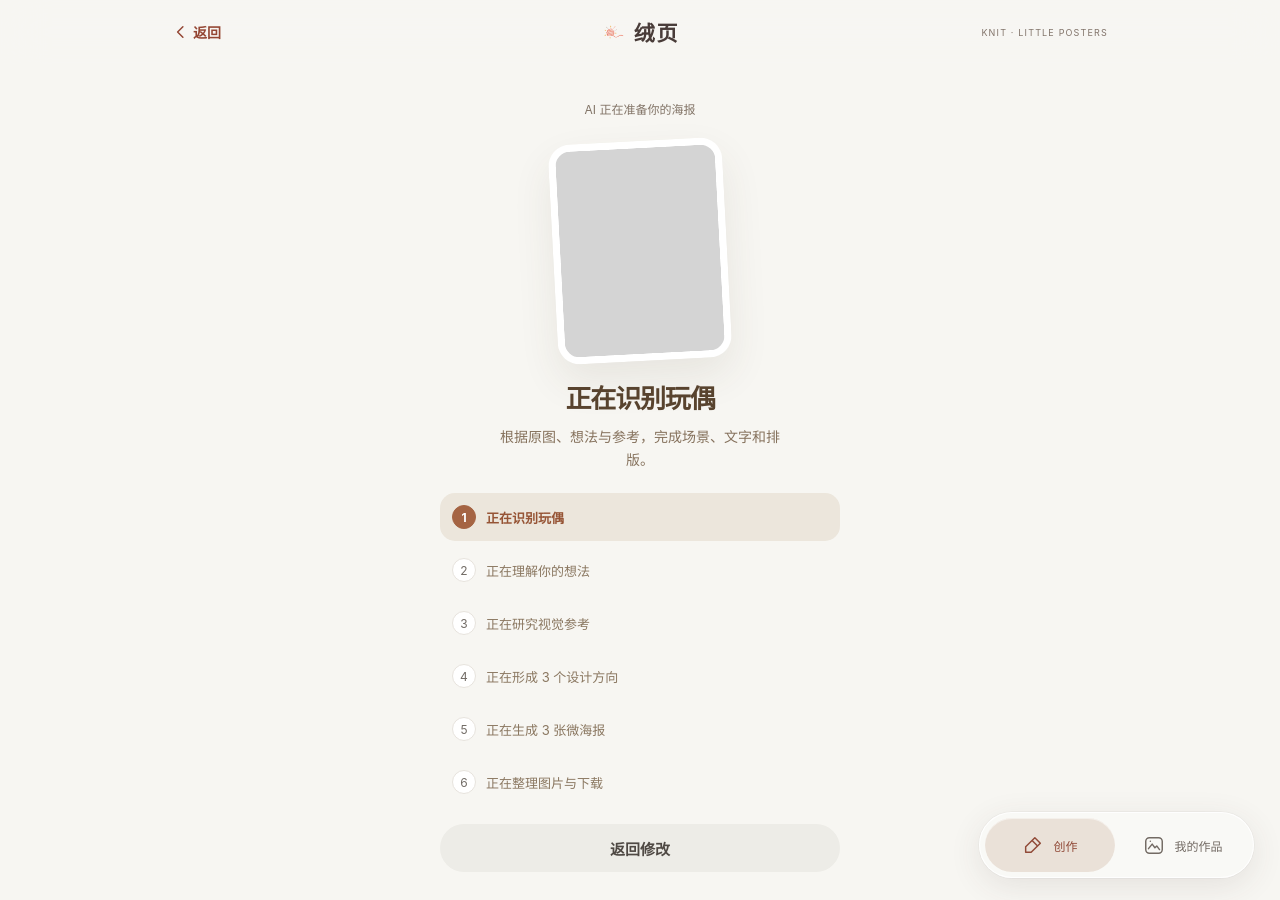
Test case: Wizard › keeps the pending generation request alive while browsing the library
Click the button "我的作品" at (1183, 845), box [1118,818,1248,872]
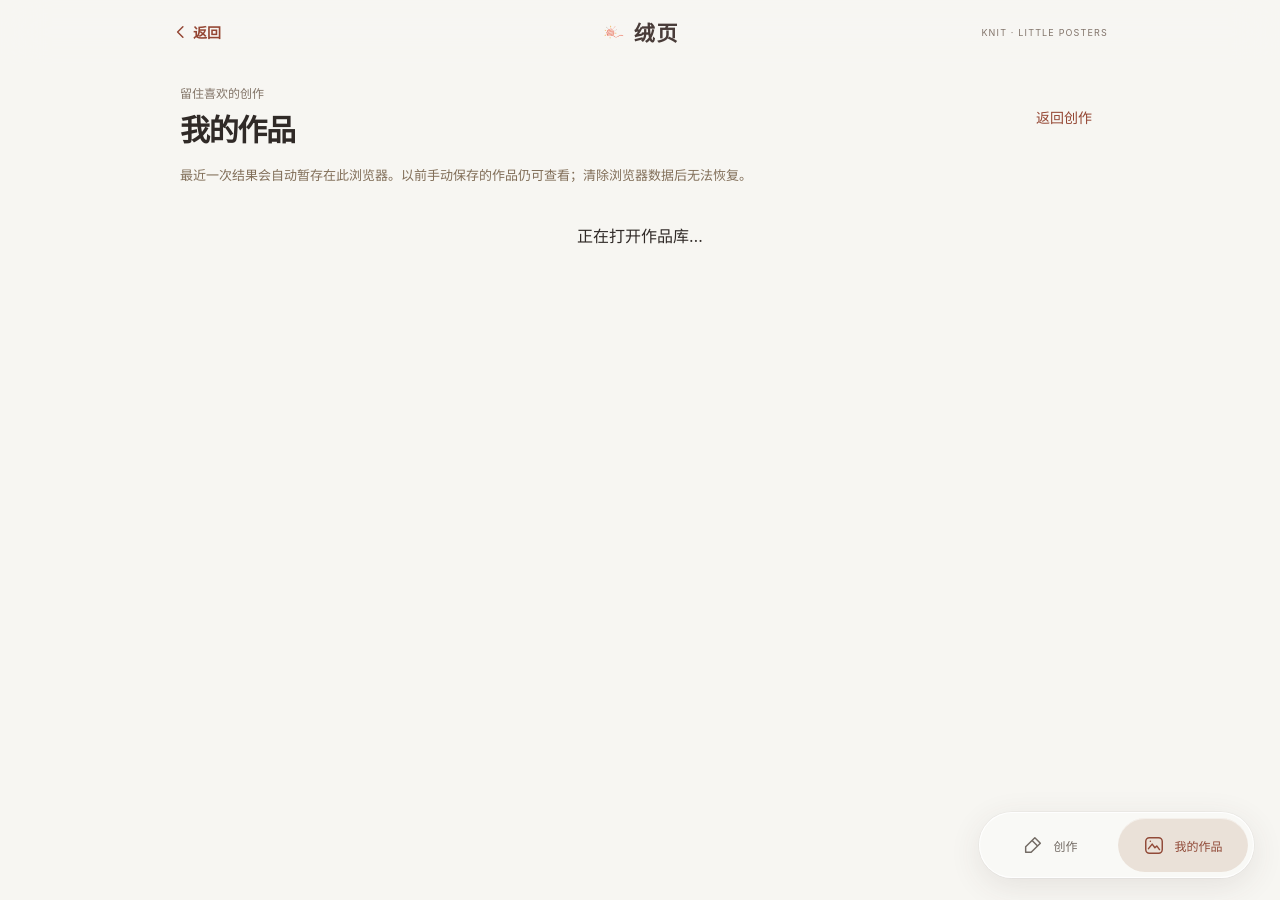
Expected: the heading "正在识别玩偶" is gone
Click the button "创作" at (1050, 845), box [985,818,1115,872]
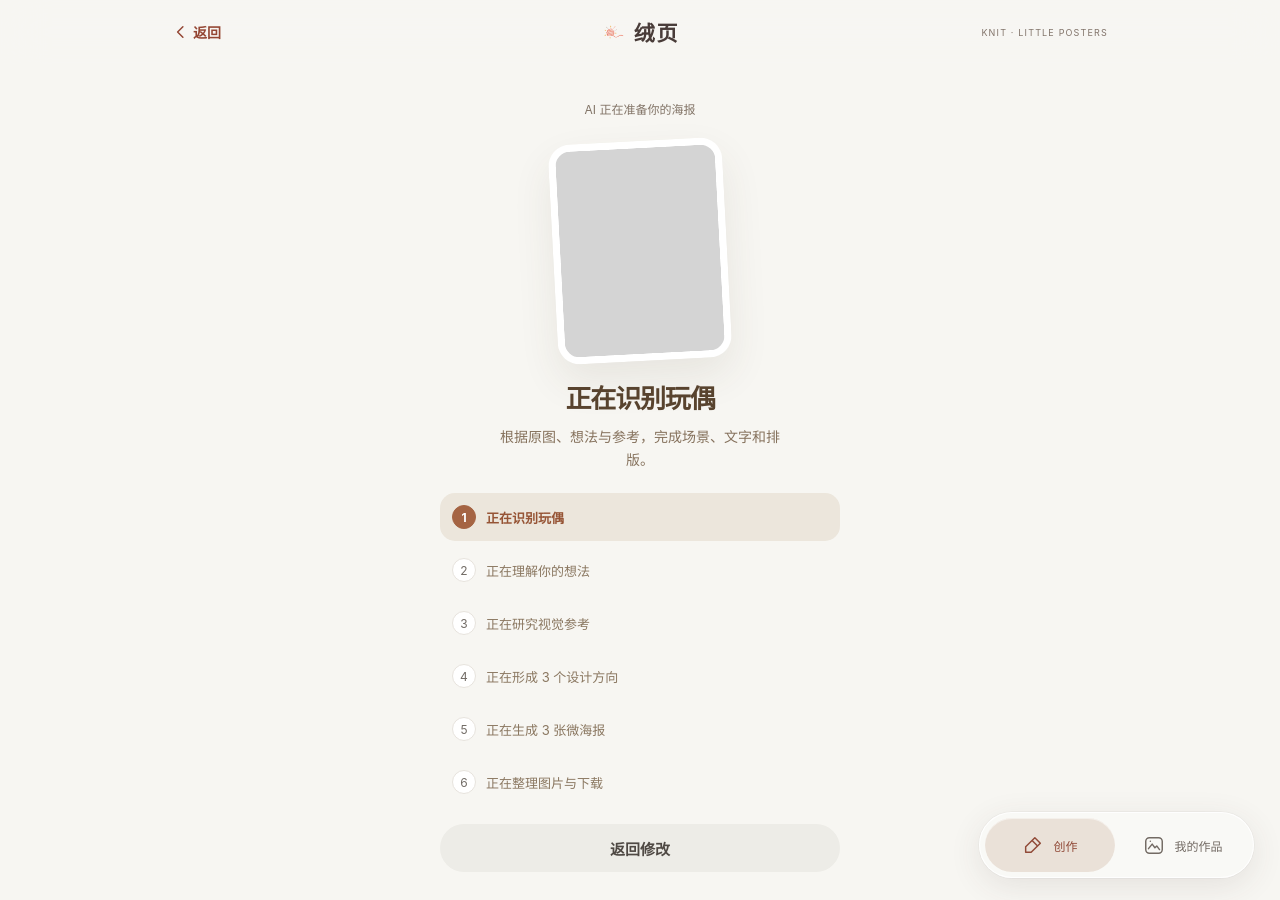
Expected: the heading "正在识别玩偶" is shown, [566,383,714,414]
